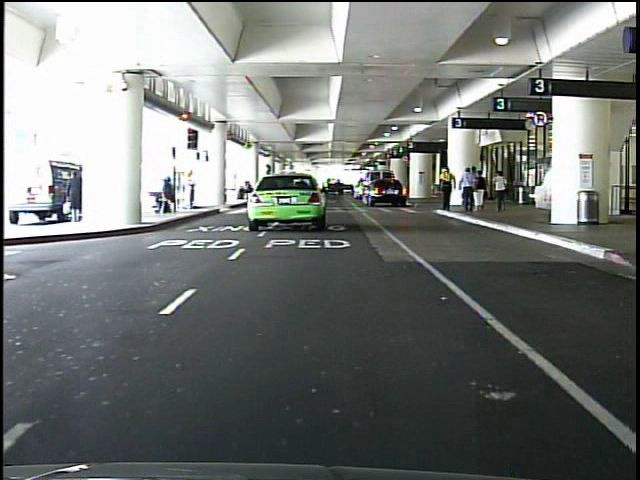person: (67, 169, 90, 224), (435, 164, 458, 217), (487, 171, 511, 217), (458, 165, 478, 215), (474, 170, 490, 215), (187, 169, 202, 213)
